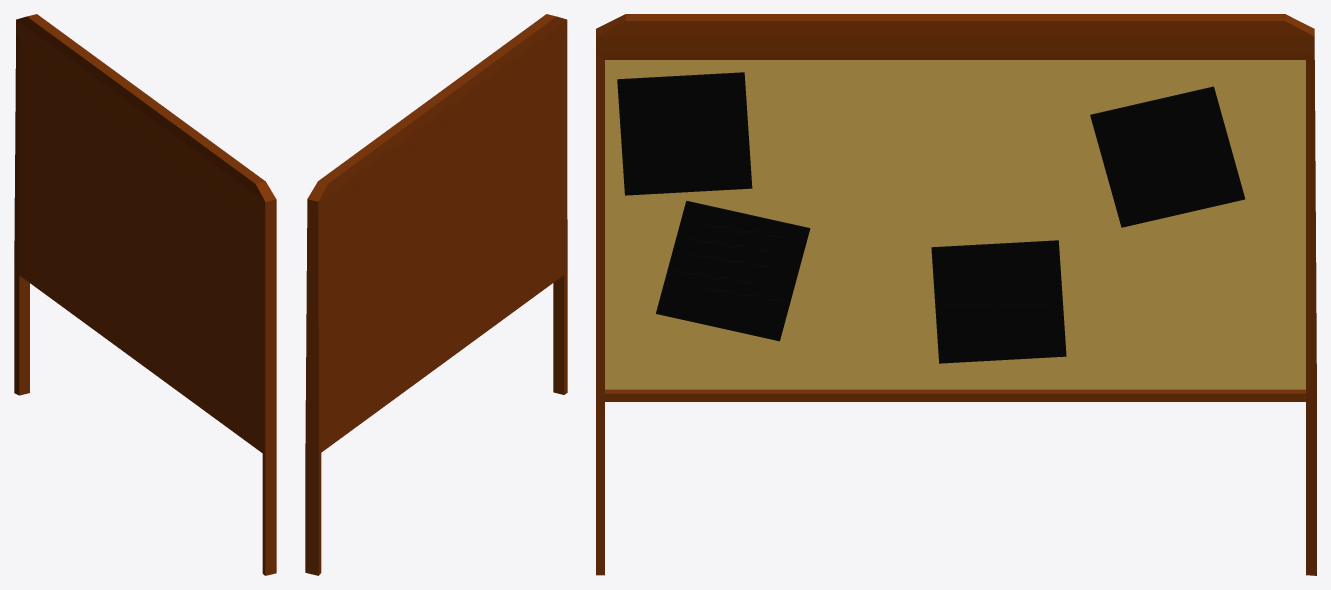
The model's file is Tasks_second_level.fbx.
3 renders of one model, left to right at view 1: azimuth 30°, elevation 25°; view 2: azimuth 150°, elevation 25°; view 3: azimuth 270°, elevation 25°, orthographic. The views are drawn at different scales.
Visible parts, largest first — view 1: Cube.025; view 2: Cube.025; view 3: Cube.025.
Part boxes in pixels (x1,y1,x2,y2): Cube.025: [14, 14, 276, 575]; Cube.025: [305, 14, 567, 575]; Cube.025: [596, 14, 1316, 575].
Bounding box in the file's own units: 34.42 × 958 × 1130.
